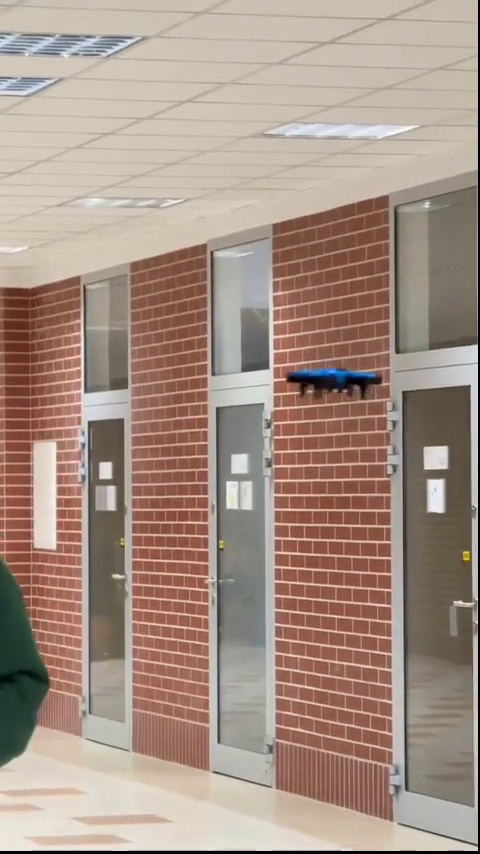drone: (283, 366, 383, 395)
